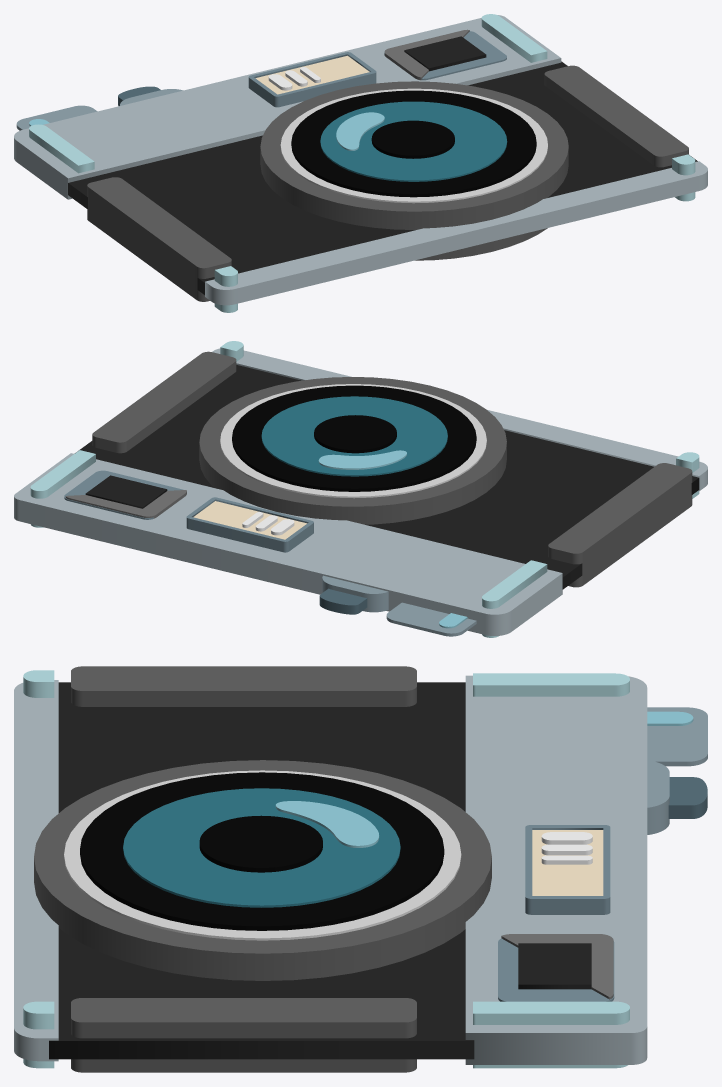
The model's file is emoji_u1f4f7.glb.
3 renders of one model, top to bottom at view 1: azimuth 30°, elevation 25°; view 2: azimuth 150°, elevation 25°; view 3: azimuth 270°, elevation 25°, orthographic. The views are drawn at different scales.
Visible parts, largest first — view 1: emoji_u1f4f7; view 2: emoji_u1f4f7; view 3: emoji_u1f4f7.
Boxes of the visible parts, x1=… form: emoji_u1f4f7: x1=14, y1=14, x2=707, y2=312; emoji_u1f4f7: x1=14, y1=341, x2=707, y2=637; emoji_u1f4f7: x1=14, y1=666, x2=707, y2=1072.
Size of the model in its own units: 0.0338 by 0.0044 by 0.0276.
